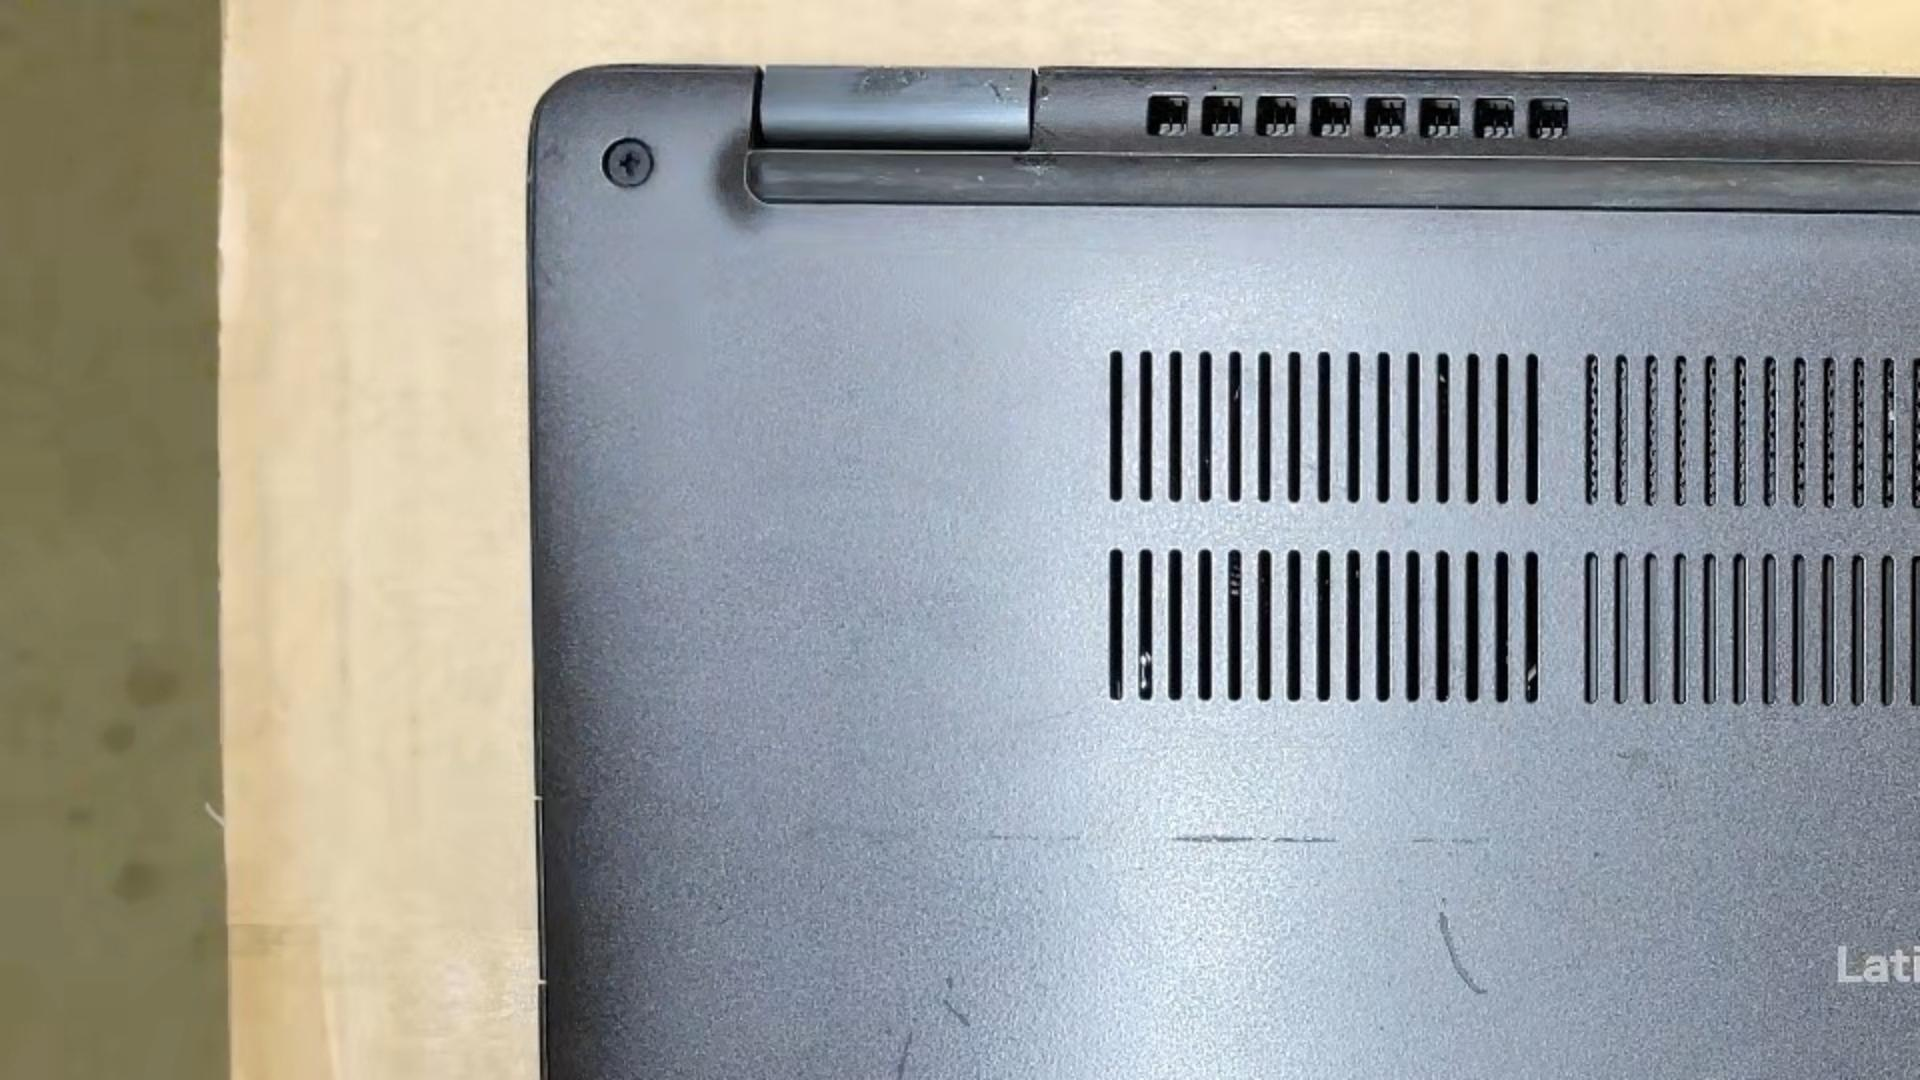chip: (848, 67, 928, 98), (1011, 154, 1059, 175)
scratches: (1436, 911, 1490, 996), (1168, 833, 1338, 844), (982, 829, 1087, 843), (940, 998, 973, 1029), (895, 1031, 914, 1080), (1411, 836, 1481, 845), (1035, 120, 1059, 142), (985, 80, 1005, 103), (943, 975, 955, 992)
